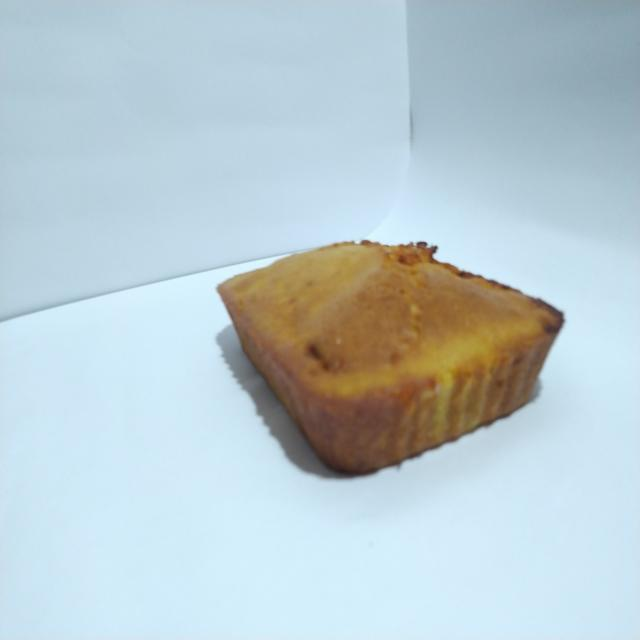Food: (205, 228, 571, 493)
